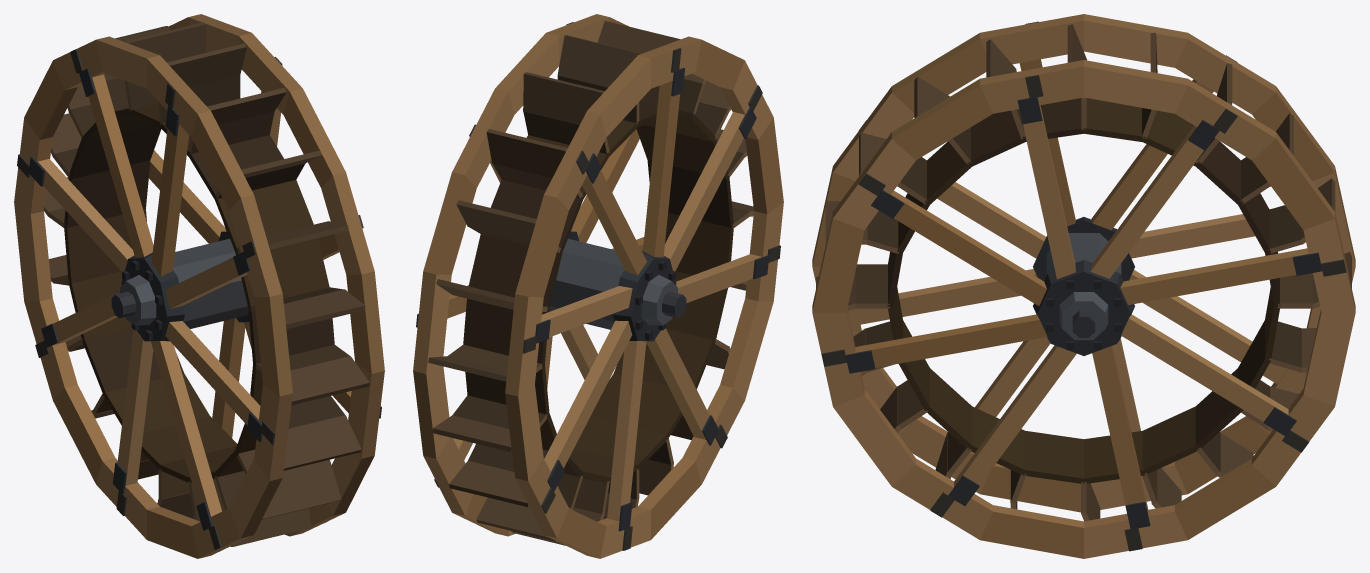
Rendered from river_mill_wheel.glb.
3 renders of one model, left to right at view 1: azimuth 30°, elevation 25°; view 2: azimuth 150°, elevation 25°; view 3: azimuth 270°, elevation 25°, orthographic. The views are drawn at different scales.
Visible parts, largest first — view 1: river_mill_wheel; view 2: river_mill_wheel; view 3: river_mill_wheel.
Boxes of the visible parts, x1,y1,x2,y2 form: river_mill_wheel: (14, 14, 384, 558); river_mill_wheel: (413, 14, 783, 558); river_mill_wheel: (812, 14, 1355, 558).
Size of the model in its own units: 2.5 by 7 by 7.
